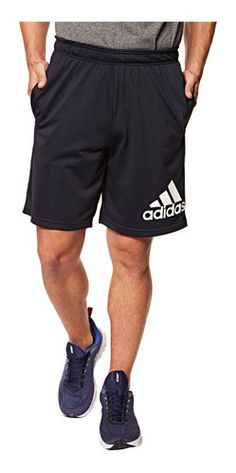adidas Originale: (137, 175, 194, 226)
